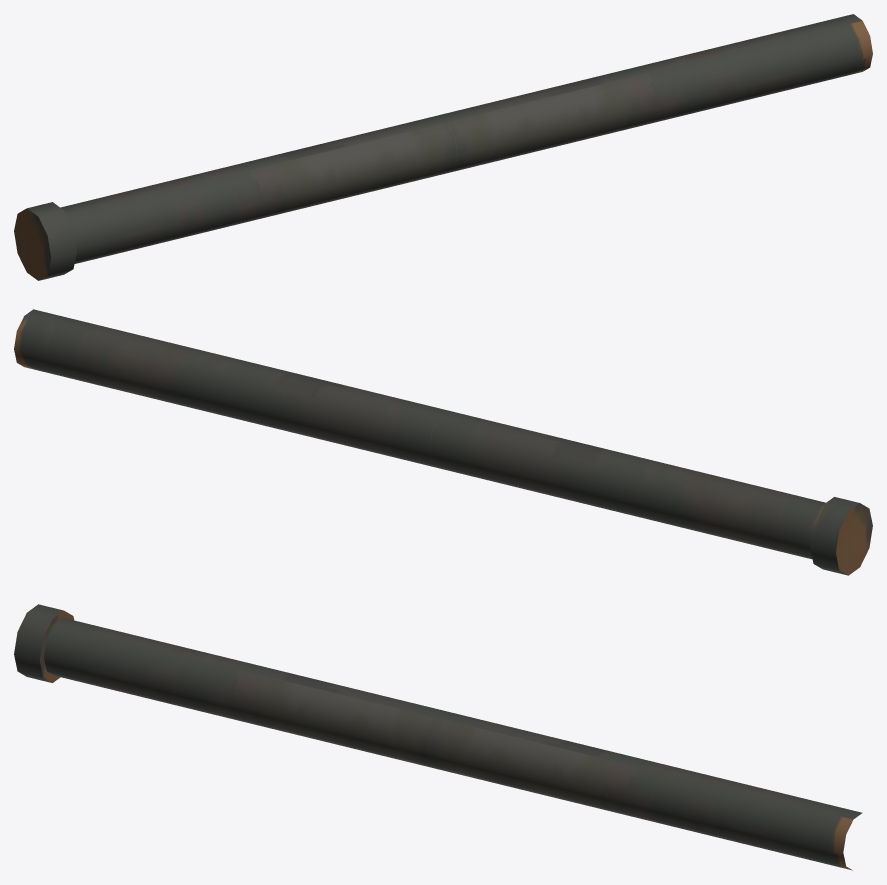
The picture shows the model from 3 angles, top to bottom: view 1: azimuth 30°, elevation 25°; view 2: azimuth 150°, elevation 25°; view 3: azimuth 330°, elevation 25°; orthographic projection.
Visible parts, largest first — view 1: body0_model0_lod0_mesh0; view 2: body0_model0_lod0_mesh0; view 3: body0_model0_lod0_mesh0.
Boxes of the visible parts, box(x1,y1,x2,y2) form: body0_model0_lod0_mesh0: box(14, 14, 872, 280); body0_model0_lod0_mesh0: box(14, 309, 872, 575); body0_model0_lod0_mesh0: box(14, 604, 862, 870).
Bounding box in the file's own units: 128 × 9.52 × 10.
1 material, 1 textured.
